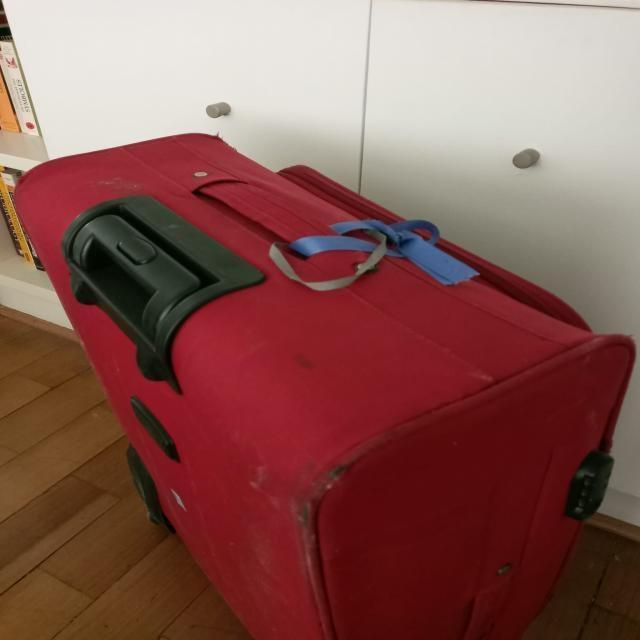Suitcase: (21, 131, 640, 640)
